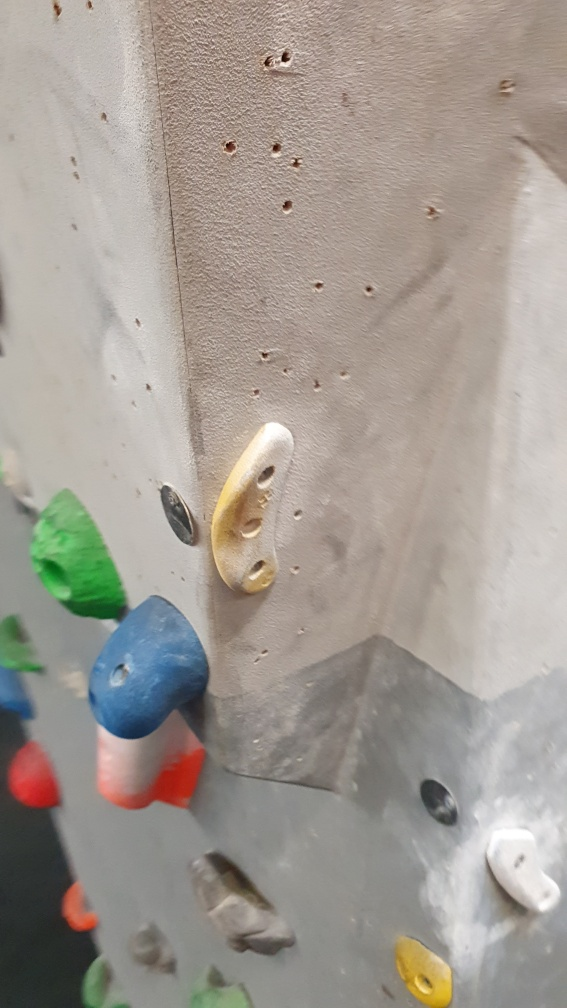Hand Start: (154, 481, 201, 549), (413, 776, 462, 830)
Jug: (192, 839, 299, 957)
Pinch: (97, 706, 204, 817)
